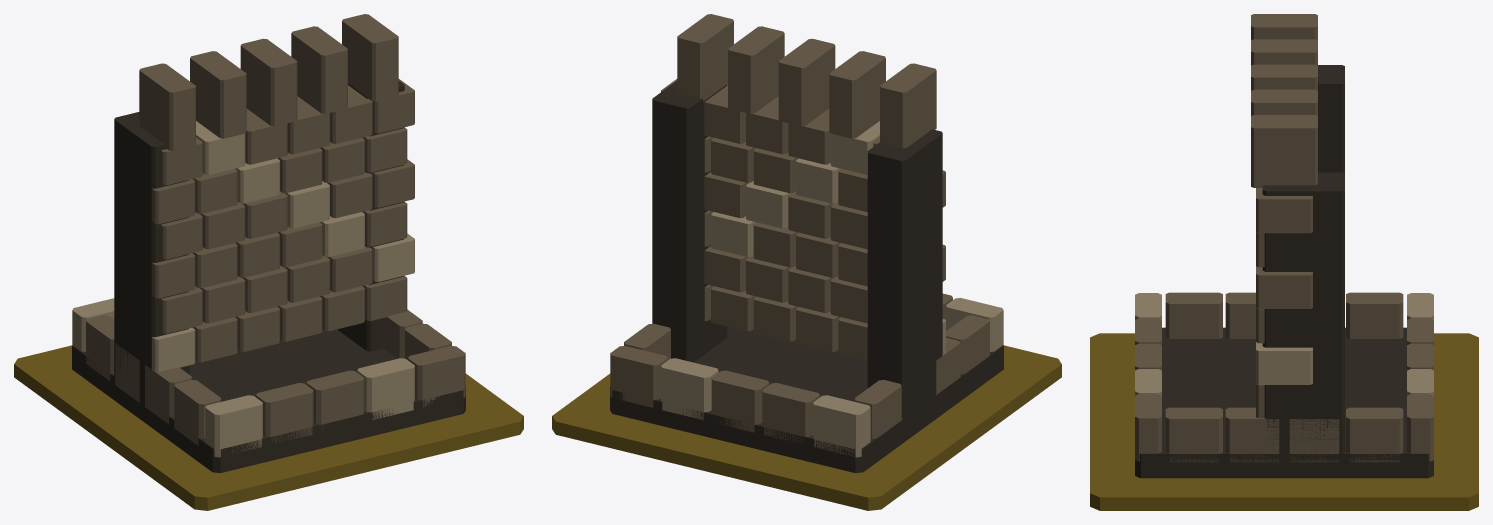
Rendered from stonewall_t3.glb.
The picture shows the model from 3 angles, left to right: view 1: azimuth 30°, elevation 25°; view 2: azimuth 150°, elevation 25°; view 3: azimuth 270°, elevation 25°; orthographic projection. The views are drawn at different scales.
Parts seen in each view (by area): view 1: MMR | stonewall | T03 Architecture.001, MMR | stonewall | Tier 03 Ground.001; view 2: MMR | stonewall | T03 Architecture.001, MMR | stonewall | Tier 03 Ground.001; view 3: MMR | stonewall | T03 Architecture.001, MMR | stonewall | Tier 03 Ground.001.
Part boxes in pixels (x1,y1,x2,y2): MMR | stonewall | T03 Architecture.001: (72,14,465,473); MMR | stonewall | Tier 03 Ground.001: (14,345,523,510); MMR | stonewall | T03 Architecture.001: (610,14,1003,473); MMR | stonewall | Tier 03 Ground.001: (552,345,1061,510); MMR | stonewall | T03 Architecture.001: (1135,14,1433,478); MMR | stonewall | Tier 03 Ground.001: (1090,333,1478,510).
Bounding box in the file's own units: 1.3 × 1.32 × 1.3.
1 material, 1 textured.
